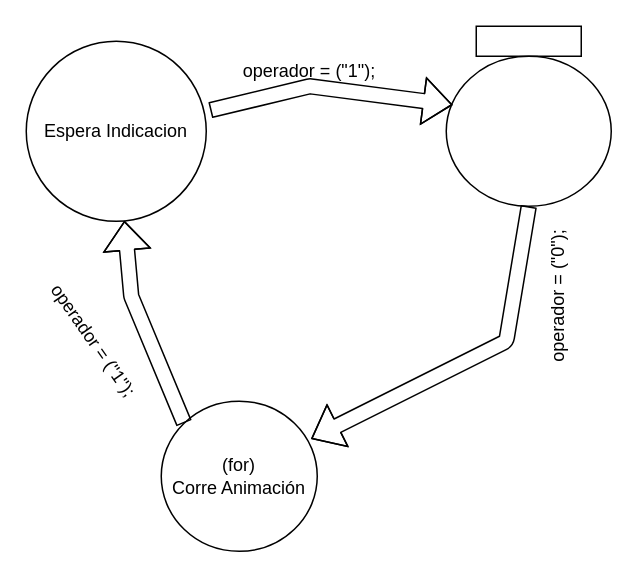
This 638x578 diagram has some shape labels left out. The shapes that lost their labels are listed below. From the top down, each one's box as (x1, y1, x2, y2) in pixels, then its label:
(475, 25, 581, 56): Inicio
(445, 55, 611, 206): (defino el string) Elija memoria
